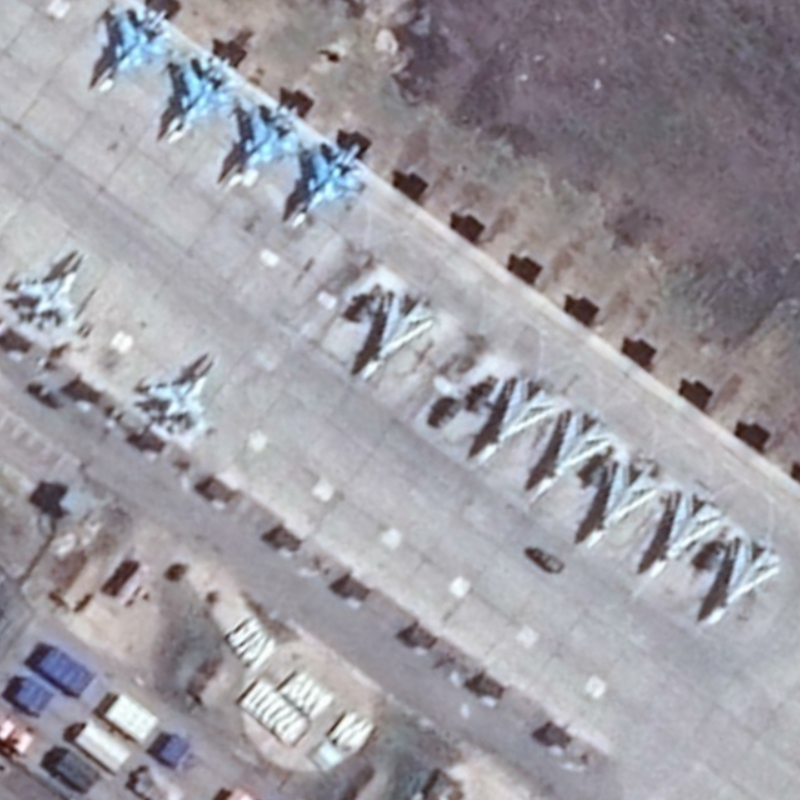A1: (145, 353, 221, 434), (16, 249, 90, 332)
A19: (94, 3, 178, 95), (164, 54, 245, 146), (225, 97, 303, 191), (290, 141, 367, 229)
A20: (472, 376, 556, 467), (357, 294, 436, 382), (534, 412, 612, 499), (705, 539, 781, 628), (584, 463, 661, 550), (647, 492, 722, 581)
